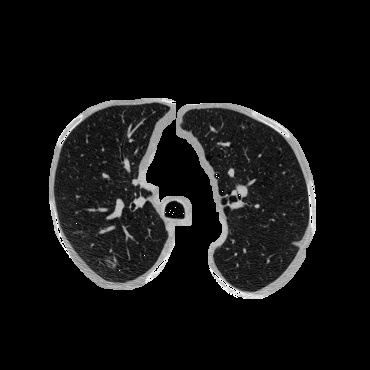PN: (104, 256, 116, 268)
